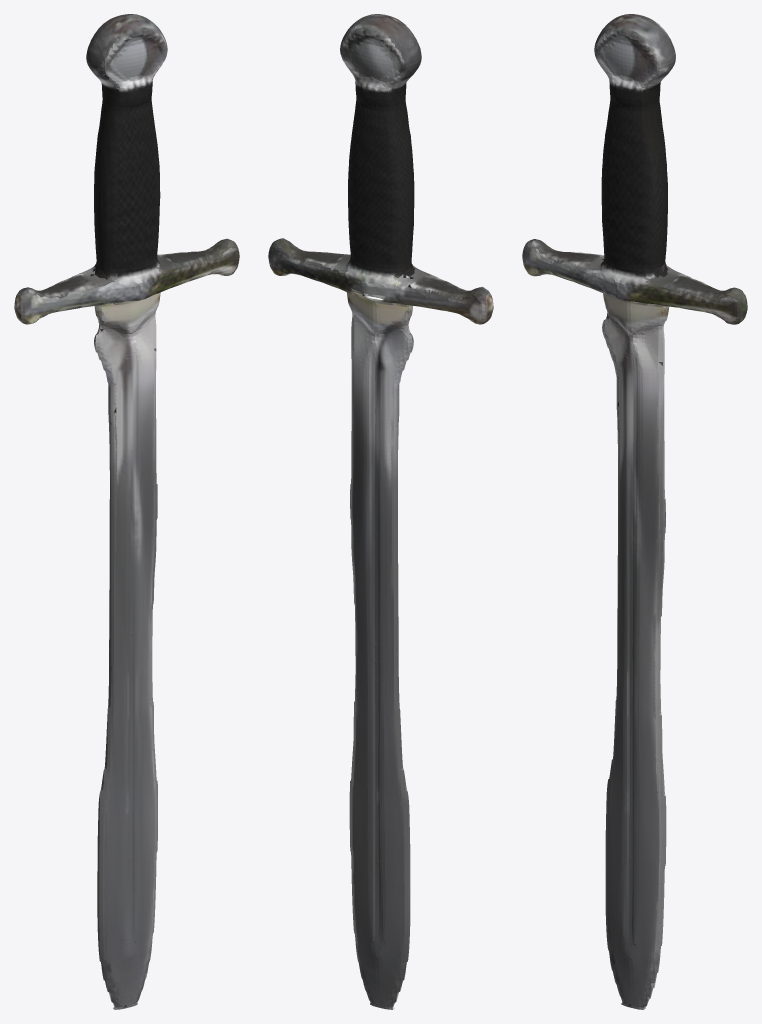
Rendered from mdl_sword_001.glb.
3 views of the same model, side by side, from view 1: azimuth 30°, elevation 25°; view 2: azimuth 150°, elevation 25°; view 3: azimuth 330°, elevation 25° (orthographic).
Parts seen in each view (by area): view 1: tmpf29b_swf.ply; view 2: tmpf29b_swf.ply; view 3: tmpf29b_swf.ply.
Boxes of the visible parts, <box> form: tmpf29b_swf.ply: <box>14,14,239,1009</box>; tmpf29b_swf.ply: <box>268,14,493,1009</box>; tmpf29b_swf.ply: <box>522,14,747,1009</box>.
Bounding box in the file's own units: 0.2305 × 0.9792 × 0.058.
Materials: 1 (1 with a texture image).
